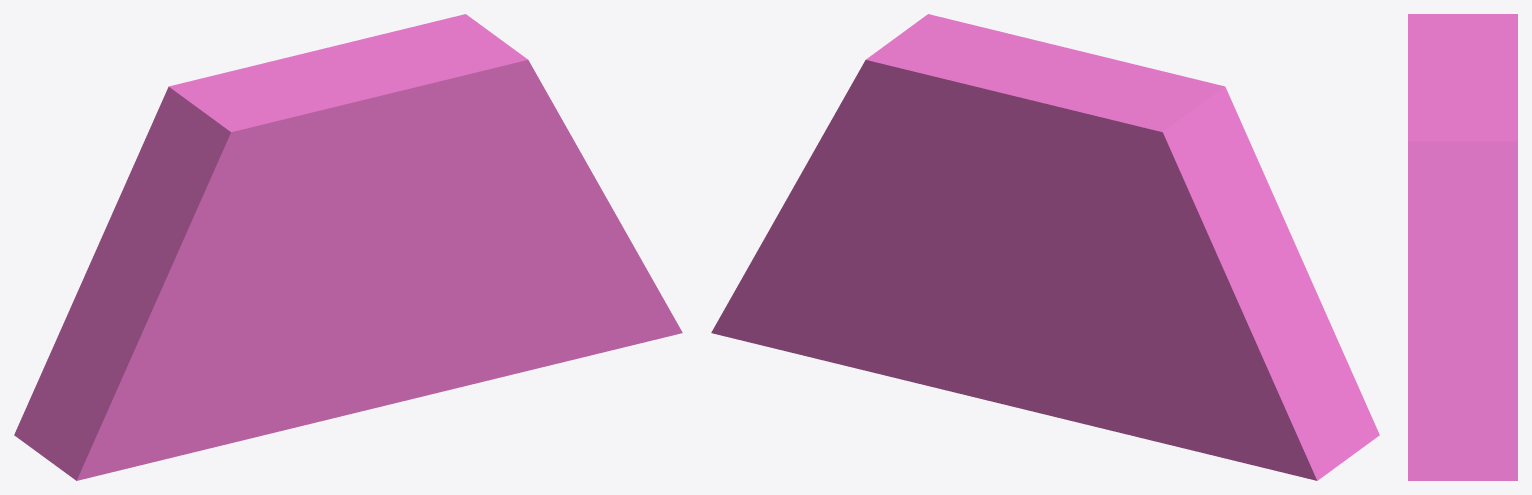
The model's file is Falda.fbx.
3 renders of one model, left to right at view 1: azimuth 30°, elevation 25°; view 2: azimuth 150°, elevation 25°; view 3: azimuth 270°, elevation 25°, orthographic. The views are drawn at different scales.
Parts seen in each view (by area): view 1: Cube; view 2: Cube; view 3: Cube.
Boxes of the visible parts, left/top/right/bottom form: Cube: left=14, top=14, right=682, bottom=480; Cube: left=711, top=14, right=1379, bottom=480; Cube: left=1408, top=14, right=1517, bottom=480.
Bounding box in the file's own units: 260 × 128 × 46.49.
